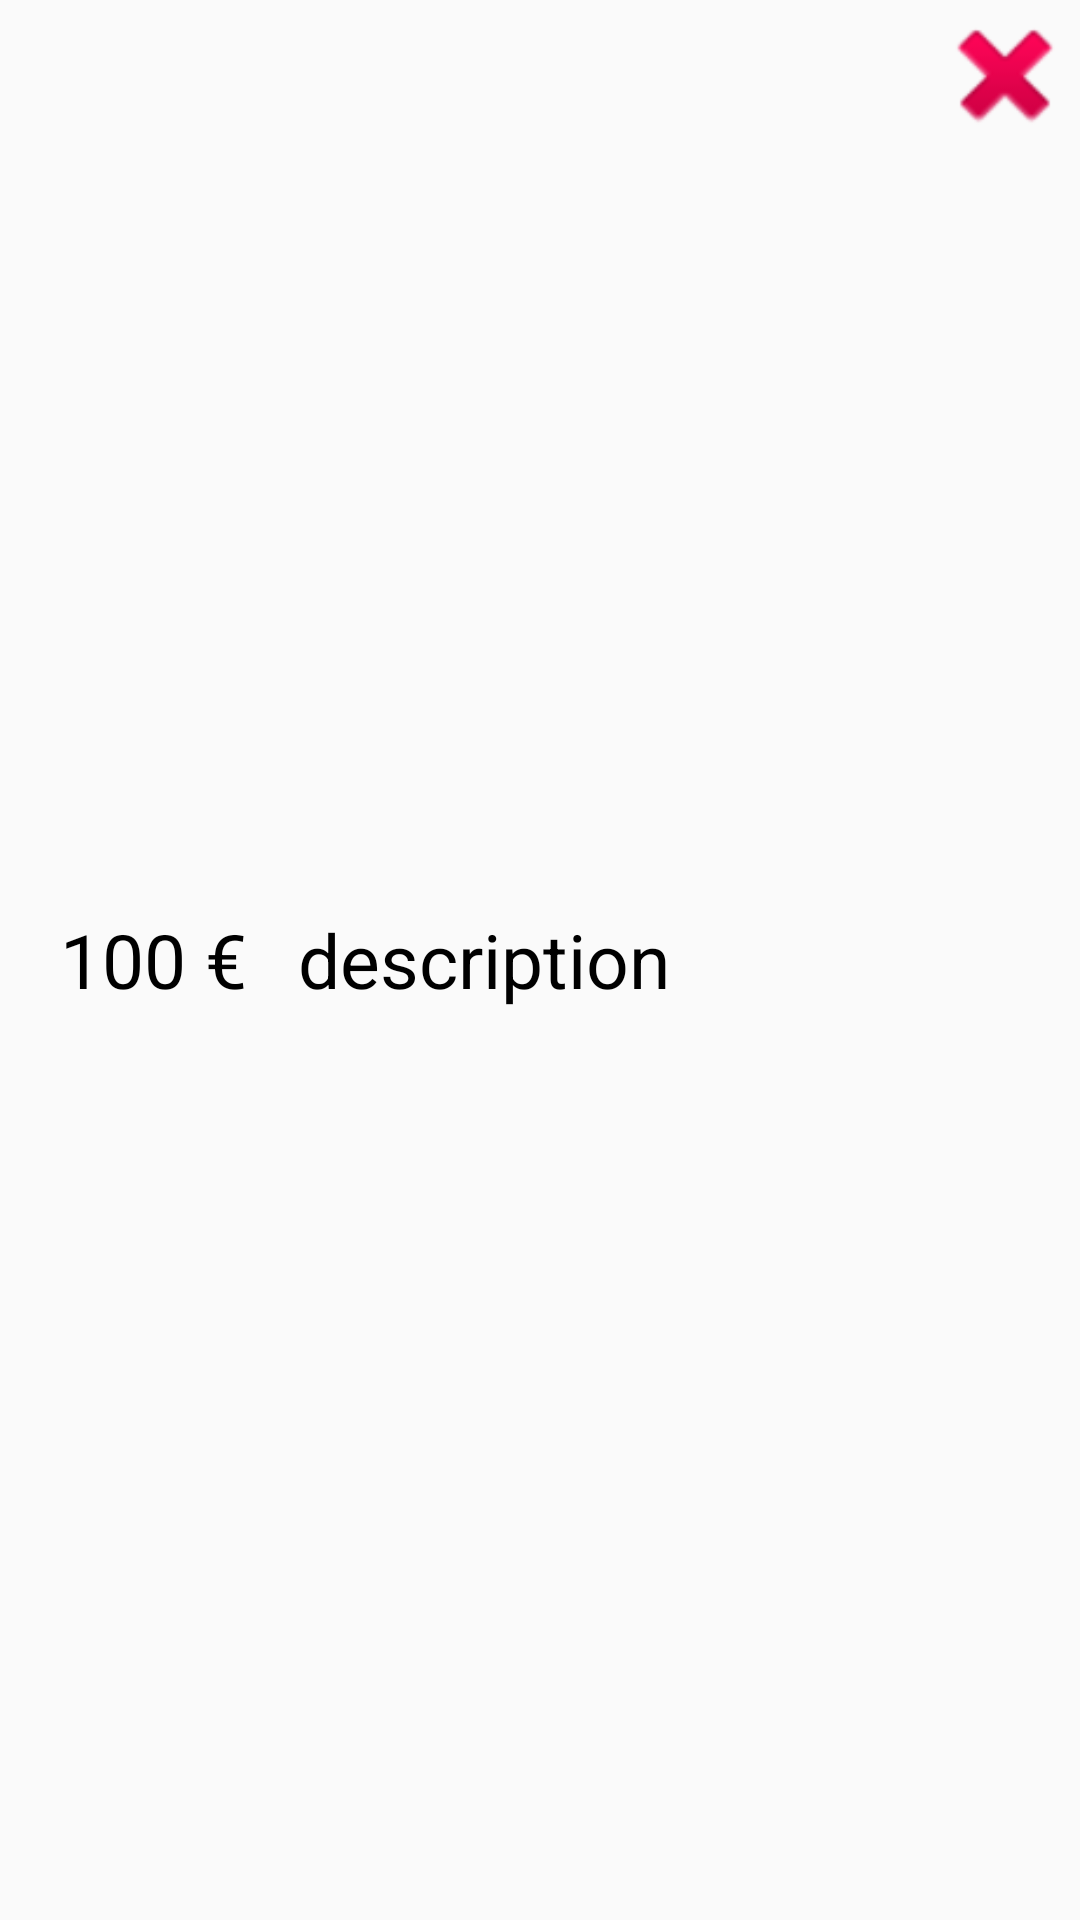

Icons on this 1080x1920 Android screen, each with its box as (x1, y1, x2, y2):
delete: (957, 30, 1053, 122)
